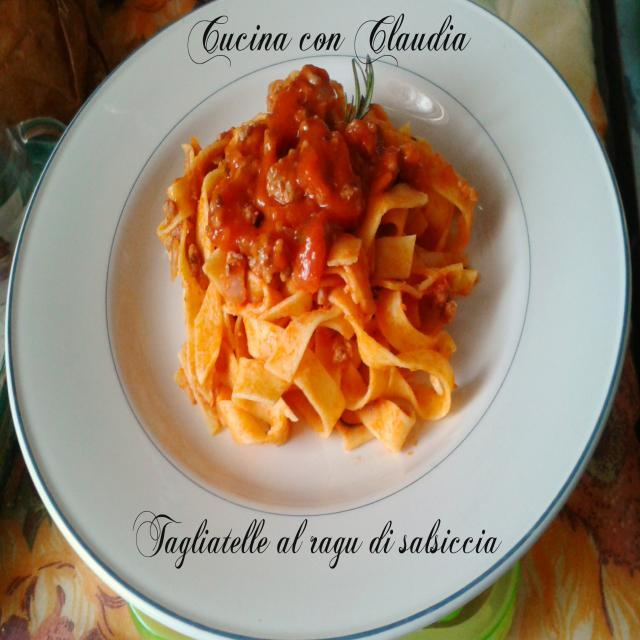Pasta al ragu: (170, 41, 545, 467)
